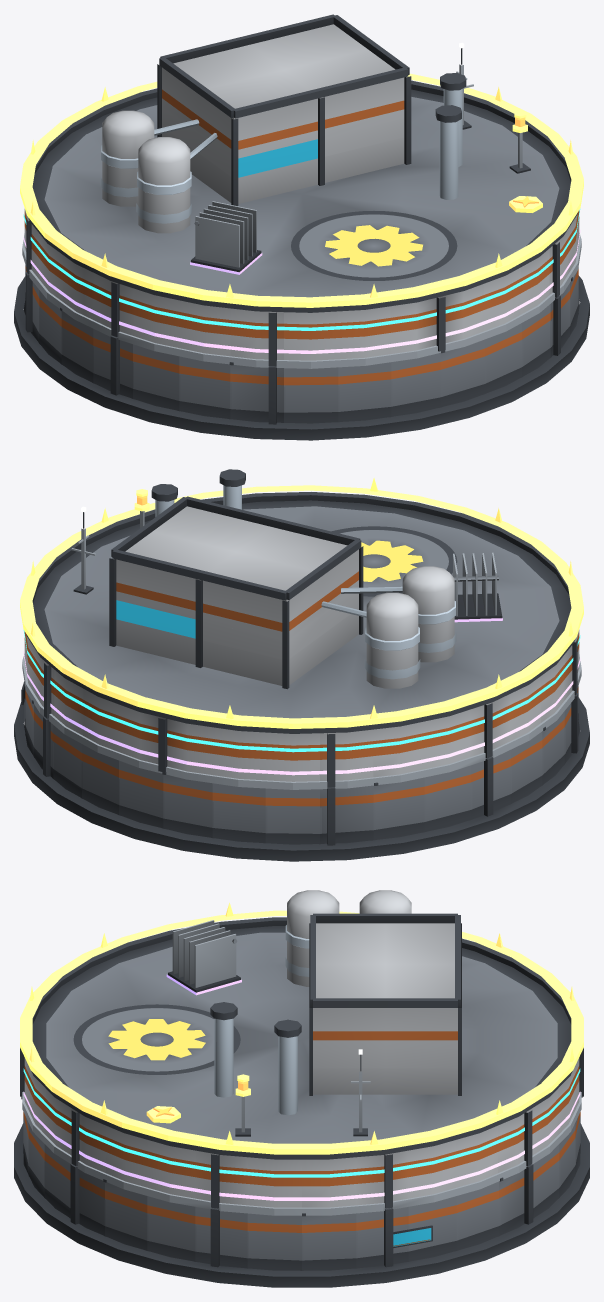
Rendered from superconductor_lab_s.glb.
3 renders of one model, top to bottom at view 1: azimuth 30°, elevation 25°; view 2: azimuth 150°, elevation 25°; view 3: azimuth 270°, elevation 25°, orthographic.
Parts seen in each view (by area): view 1: Roof, Base, L4, Wall_21, Wall_20, Wall_22, Wall_19, Wall_23, Wall_18, Wall_24, Upper_20, Upper_23 (+32 smaller); view 2: Roof, Base, Wall_10, Wall_11, Wall_09, Wall_12, Wall_08, Wall_13, Wall_07, Upper_11, L4, Upper_08 (+34 smaller); view 3: Roof, Base, L4, Wall_00, Wall_31, Wall_30, Wall_01, Wall_29, Wall_28, Wall_03, Upper_00, Upper_31 (+34 smaller).
Boxes of the visible parts, x1=… form: Roof: x1=29, y1=14, x2=577, y2=312; Base: x1=14, y1=275, x2=589, y2=440; L4: x1=190, y1=201, x2=262, y2=274; Wall_21: x1=284, y1=367, x2=338, y2=423; Wall_20: x1=229, y1=362, x2=283, y2=424; Wall_22: x1=338, y1=362, x2=391, y2=422; Wall_19: x1=179, y1=356, x2=230, y2=419; Wall_23: x1=391, y1=353, x2=440, y2=416; Wall_18: x1=133, y1=344, x2=179, y2=410; Wall_24: x1=440, y1=339, x2=484, y2=407; Upper_20: x1=230, y1=308, x2=283, y2=366; Upper_23: x1=390, y1=297, x2=442, y2=353; Roof: x1=26, y1=469, x2=574, y2=733; Base: x1=14, y1=697, x2=589, y2=861; Wall_10: x1=265, y1=788, x2=319, y2=844; Wall_11: x1=320, y1=785, x2=373, y2=845; Wall_09: x1=212, y1=783, x2=265, y2=843; Wall_12: x1=373, y1=777, x2=424, y2=840; Wall_08: x1=162, y1=772, x2=212, y2=837; Wall_13: x1=424, y1=765, x2=470, y2=831; Wall_07: x1=119, y1=760, x2=163, y2=828; Upper_11: x1=320, y1=729, x2=373, y2=787; L4: x1=453, y1=552, x2=502, y2=622; Upper_08: x1=161, y1=718, x2=213, y2=774; Roof: x1=31, y1=890, x2=572, y2=1159; Base: x1=14, y1=1123, x2=589, y2=1287; L4: x1=166, y1=920, x2=241, y2=995; Wall_00: x1=302, y1=1213, x2=356, y2=1270; Wall_31: x1=247, y1=1213, x2=301, y2=1270; Wall_30: x1=195, y1=1207, x2=247, y2=1268; Wall_01: x1=356, y1=1207, x2=408, y2=1268; Wall_29: x1=147, y1=1196, x2=195, y2=1261; Wall_28: x1=103, y1=1178, x2=147, y2=1250; Wall_03: x1=456, y1=1181, x2=498, y2=1250; Upper_00: x1=302, y1=1157, x2=355, y2=1207; Upper_31: x1=248, y1=1157, x2=301, y2=1207.
Size of the model in its own units: 11.74 by 4.96 by 11.74.
